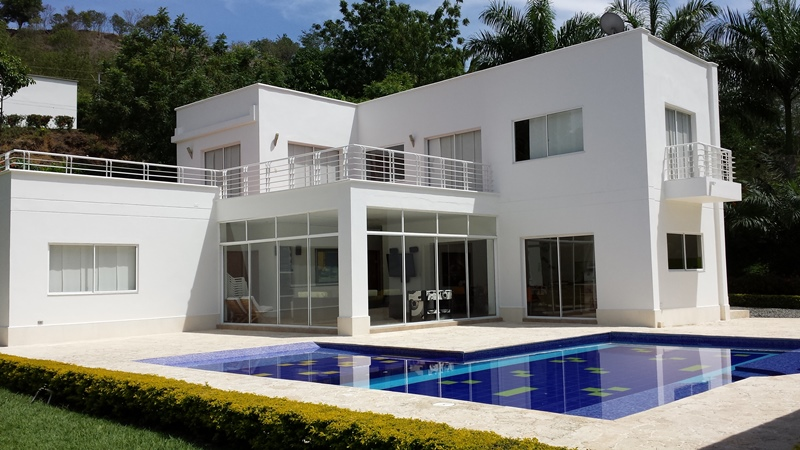House: (2, 38, 735, 333)
